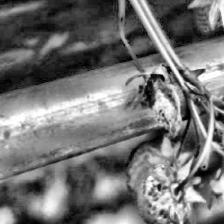Gray Mold: (136, 64, 182, 140)
